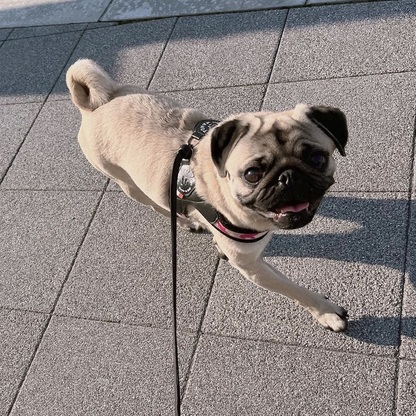Pug: (63, 55, 353, 335)
